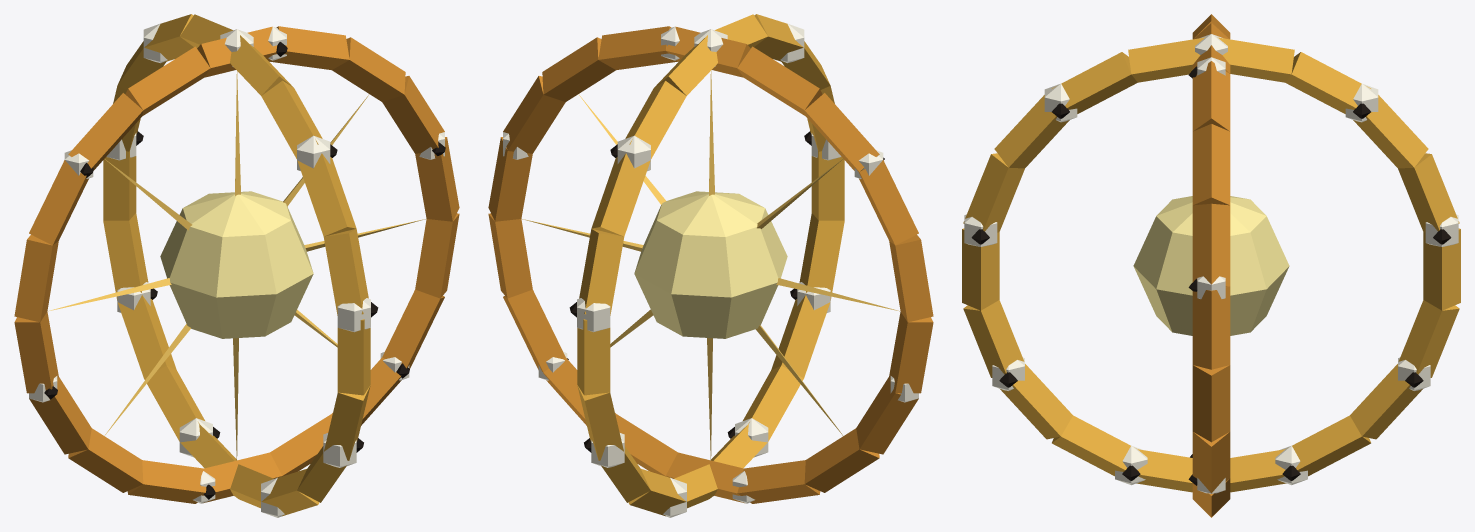
File: ophan.glb
3 renders of one model, left to right at view 1: azimuth 30°, elevation 25°; view 2: azimuth 150°, elevation 25°; view 3: azimuth 270°, elevation 25°, orthographic.
Bounding box in the file's own units: 1.62 × 1.63 × 1.6.
1 material, 1 textured.
